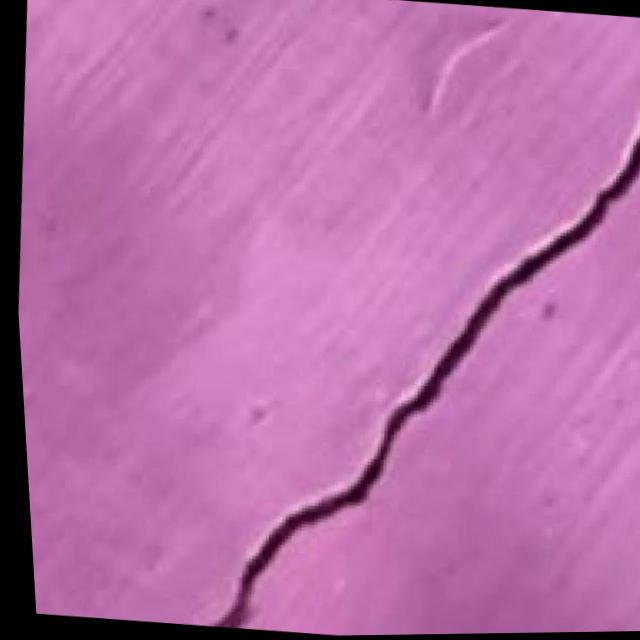Crack: (153, 33, 640, 638)
